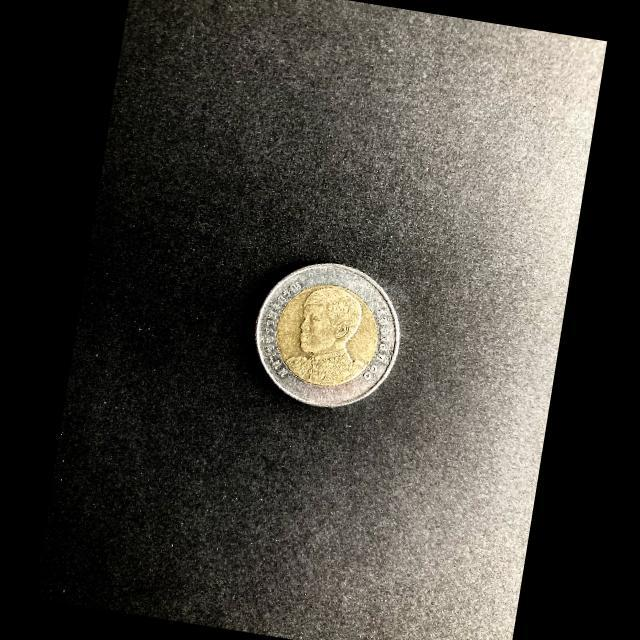10 Bath: (256, 257, 405, 414)
